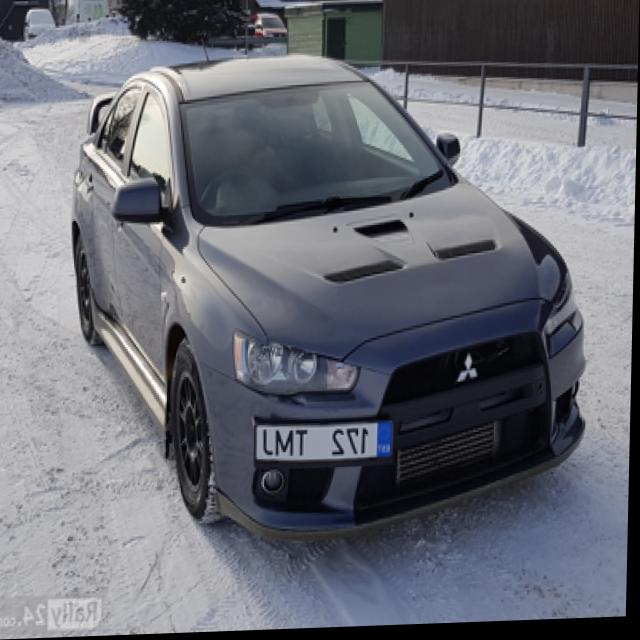licence: (259, 428, 394, 462)
